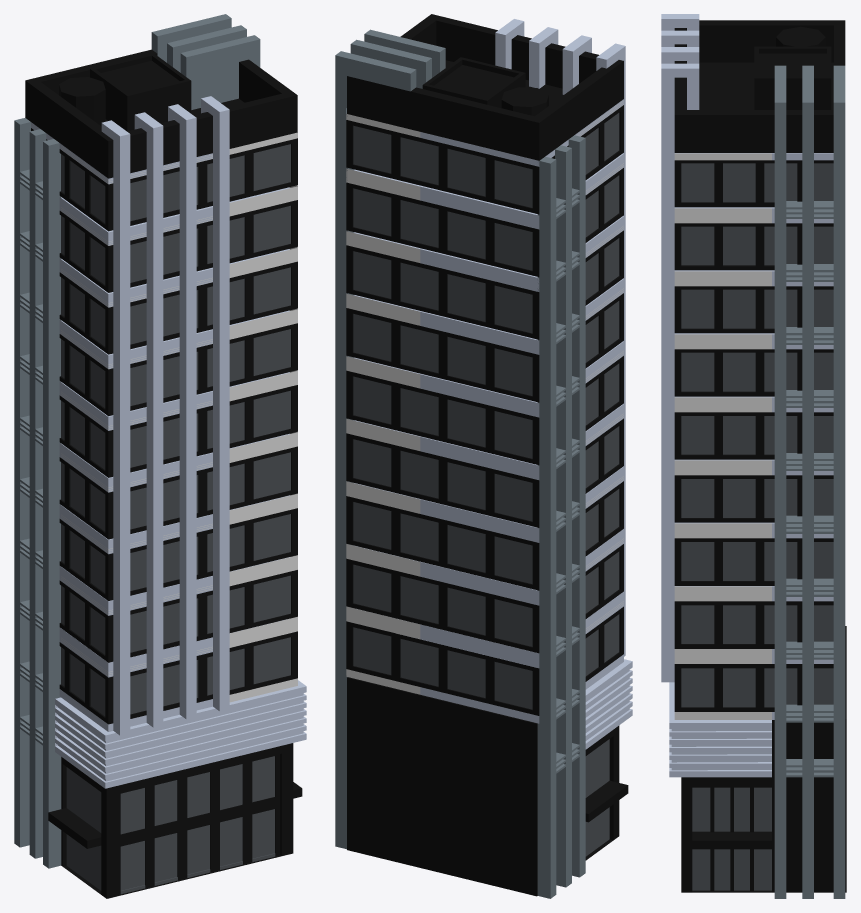
3 renders of one model, left to right at view 1: azimuth 30°, elevation 25°; view 2: azimuth 150°, elevation 25°; view 3: azimuth 270°, elevation 25°, orthographic. The views are drawn at different scales.
Visible parts, largest first — view 1: Object_125; view 2: Object_125; view 3: Object_125.
Part boxes in pixels (left/top/right/bottom): Object_125: left=14, top=14, right=306, bottom=898; Object_125: left=335, top=14, right=632, bottom=898; Object_125: left=661, top=14, right=846, bottom=898.
Bounding box in the file's own units: 1.26 × 4.37 × 0.9231.
